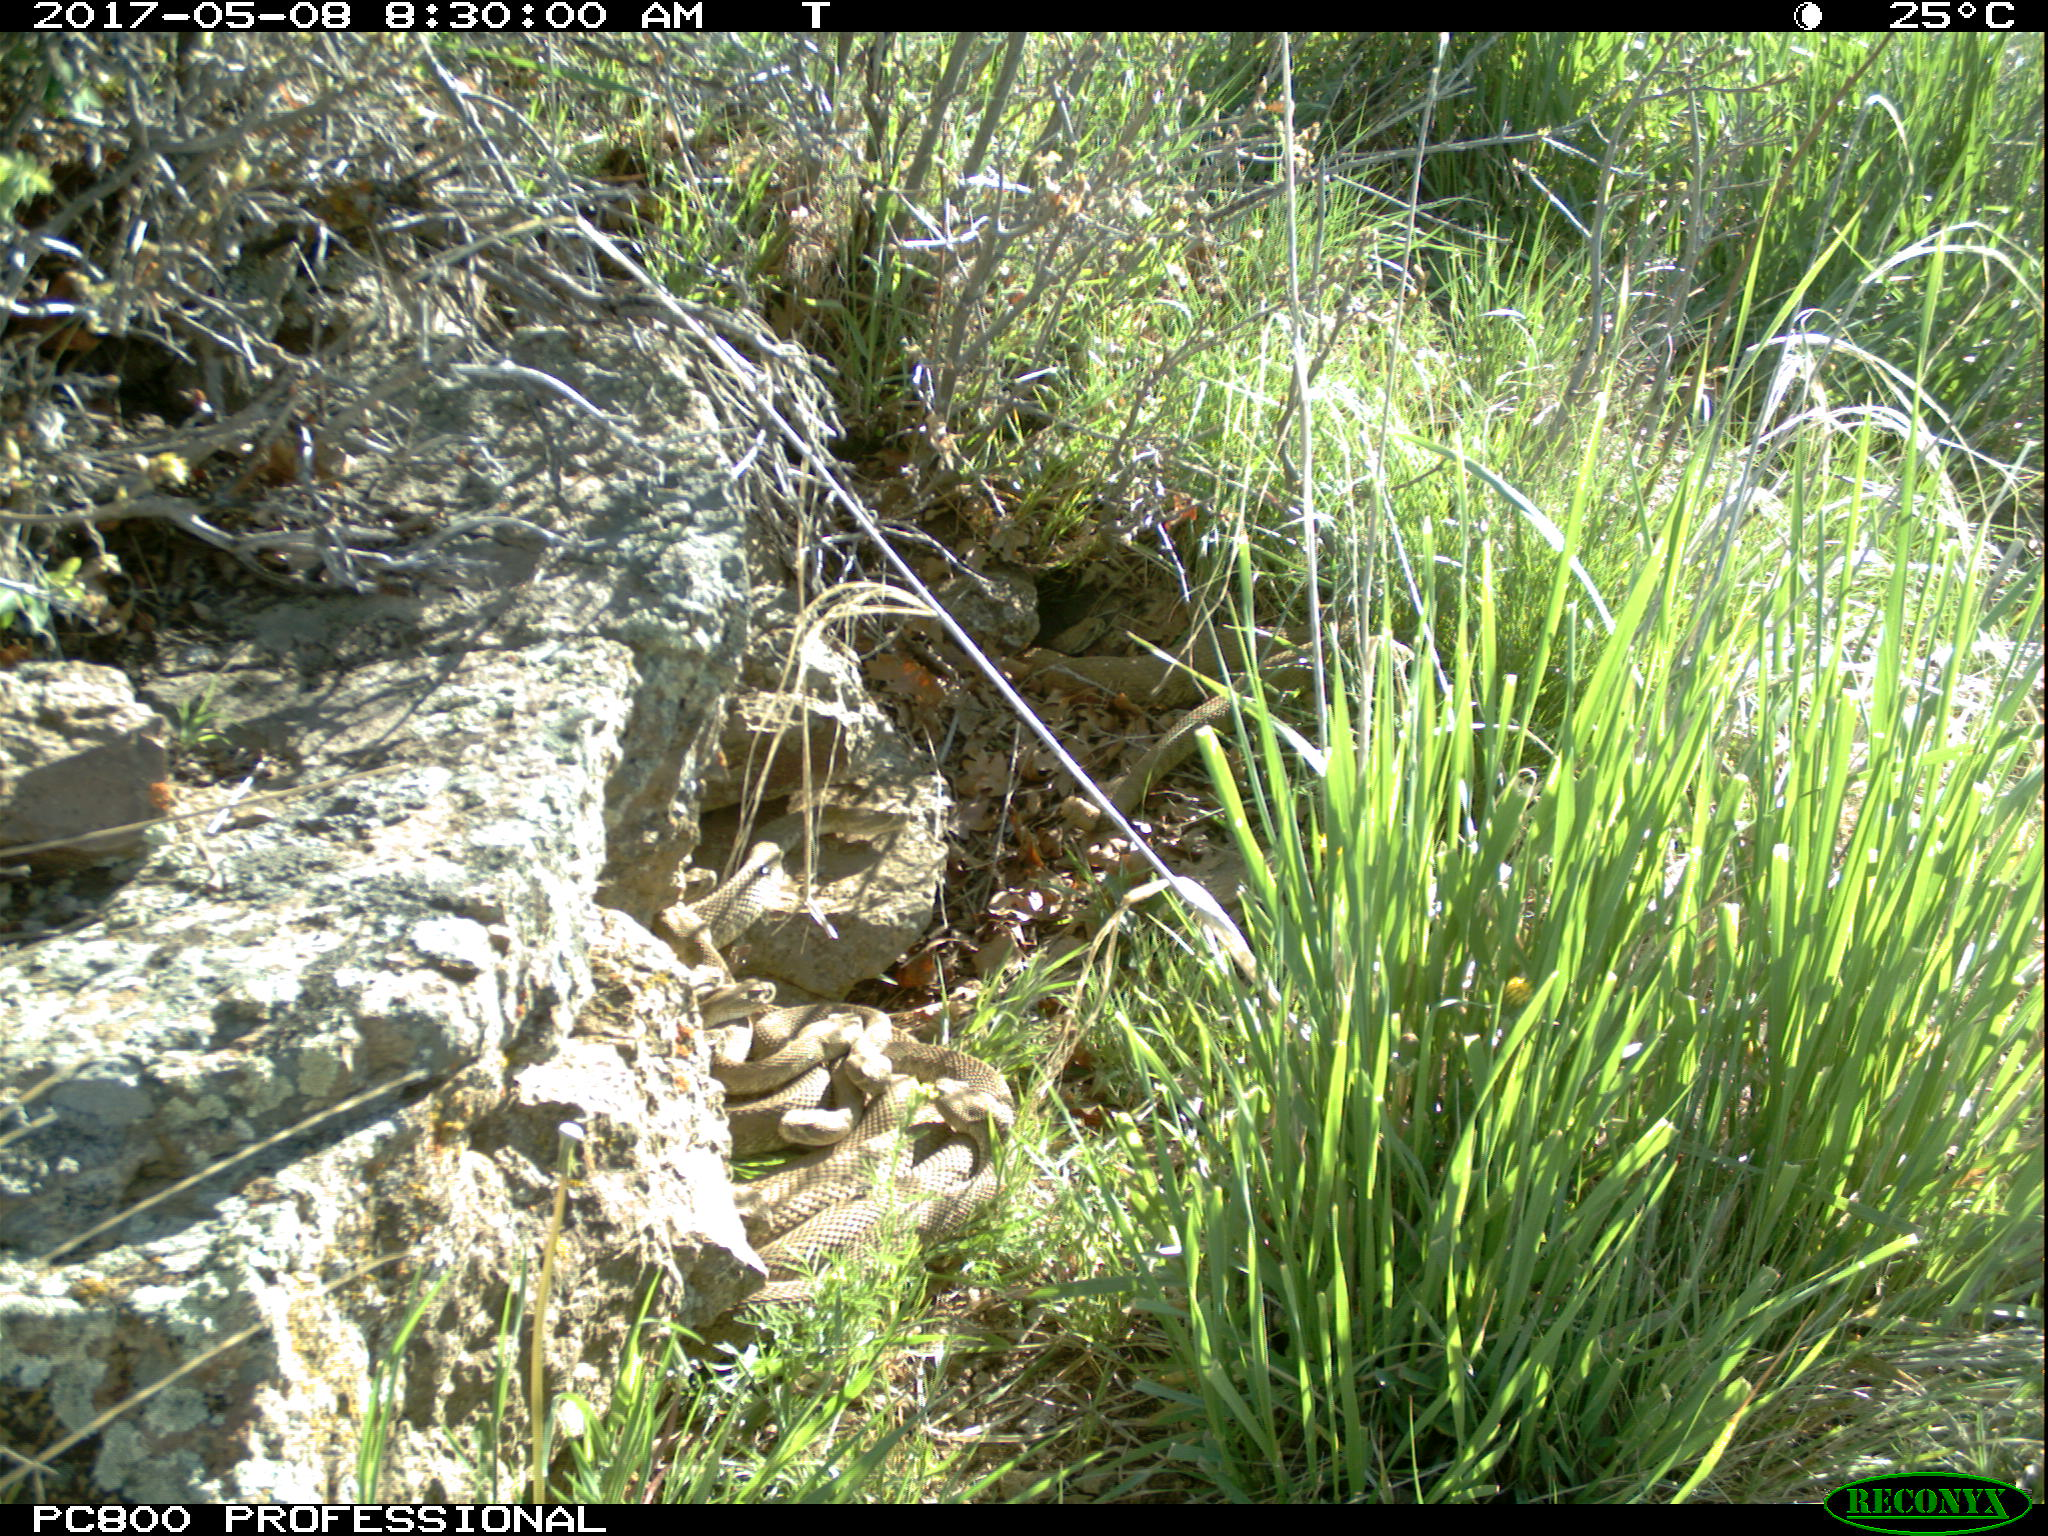snake: (727, 1110, 1013, 1291), (1014, 623, 1271, 807), (766, 1037, 1026, 1200), (697, 975, 921, 1147), (692, 794, 939, 950)
